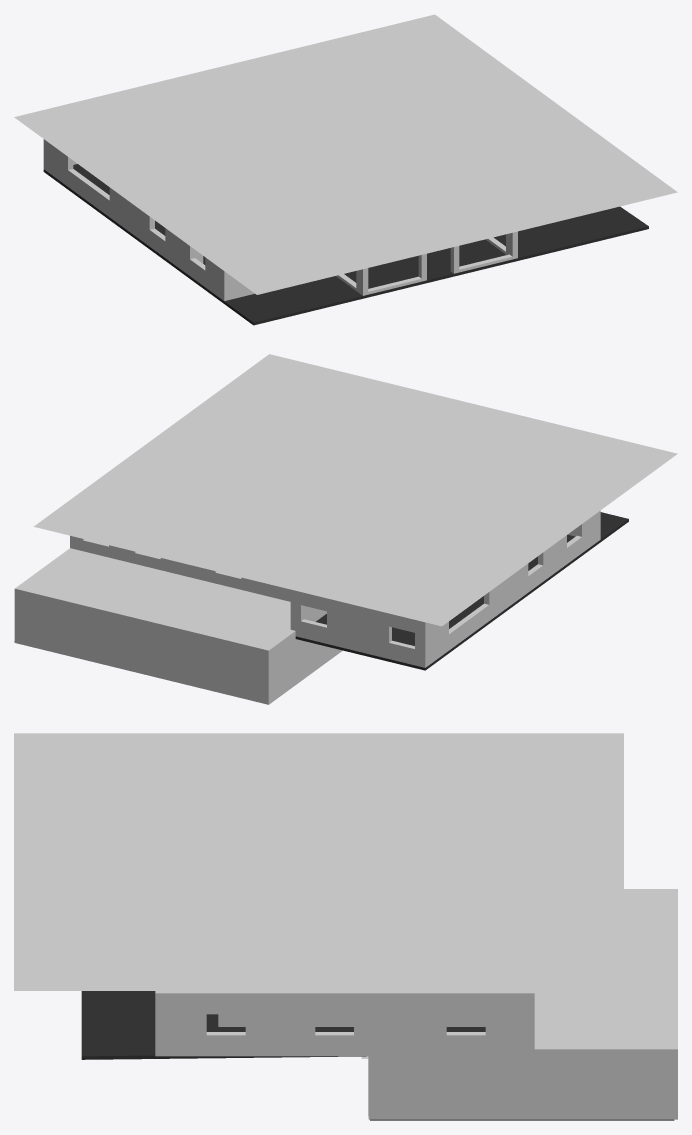
File: EstructuraCasa.fbx
3 views of the same model, one above another, from view 1: azimuth 30°, elevation 25°; view 2: azimuth 150°, elevation 25°; view 3: azimuth 270°, elevation 25° (orthographic). The views are drawn at different scales.
Visible parts, largest first — view 1: Techo1erPiso, Ground, Paredes; view 2: Techo1erPiso, ParedesSótano, Paredes, Ground; view 3: Techo1erPiso, ParedesSótano, Paredes, Ground, TechoSótano.
Boxes of the visible parts, bbox=[...] form: Techo1erPiso: bbox=[14, 14, 677, 294]; Ground: bbox=[43, 164, 648, 325]; Paredes: bbox=[43, 139, 517, 301]; Techo1erPiso: bbox=[33, 354, 677, 626]; ParedesSótano: bbox=[14, 548, 342, 704]; Paredes: bbox=[14, 510, 600, 667]; Ground: bbox=[295, 512, 628, 670]; Techo1erPiso: bbox=[14, 733, 623, 990]; ParedesSótano: bbox=[361, 889, 677, 1119]; Paredes: bbox=[155, 991, 534, 1056]; Ground: bbox=[81, 991, 485, 1059]; TechoSótano: bbox=[370, 1119, 674, 1120].
Bounding box in the file's own units: 15760 × 3755 × 17152.
